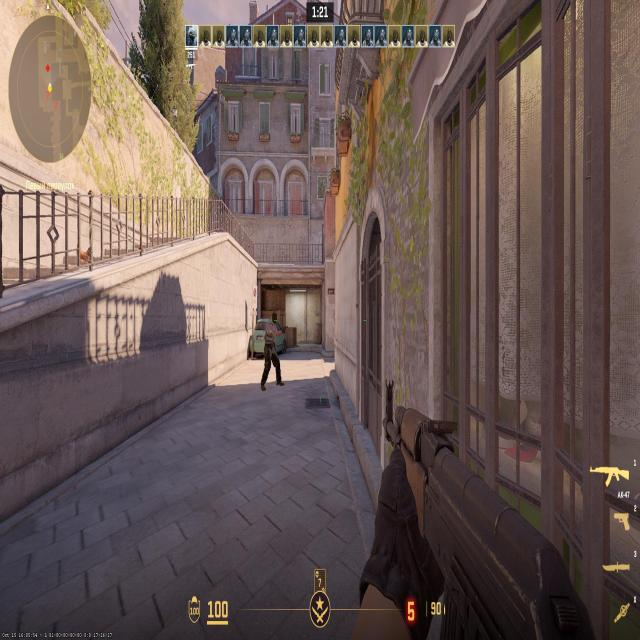T: (266, 308, 276, 374)
T_heat: (271, 315, 277, 323)
